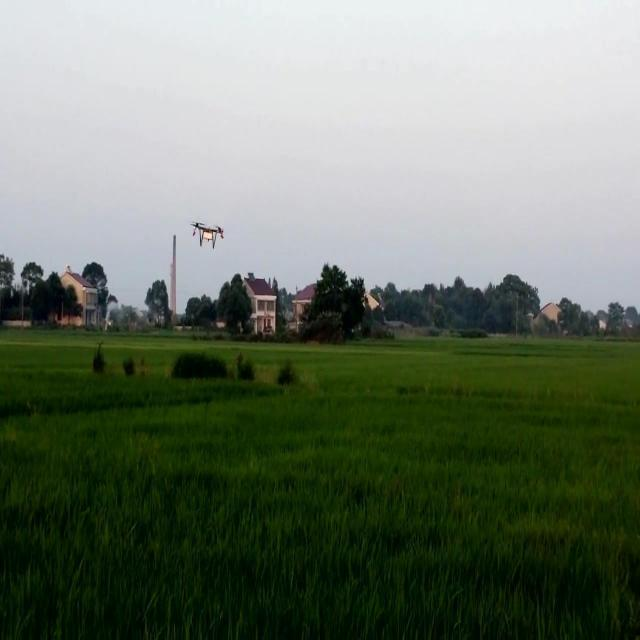UAV: (190, 221, 224, 250)
